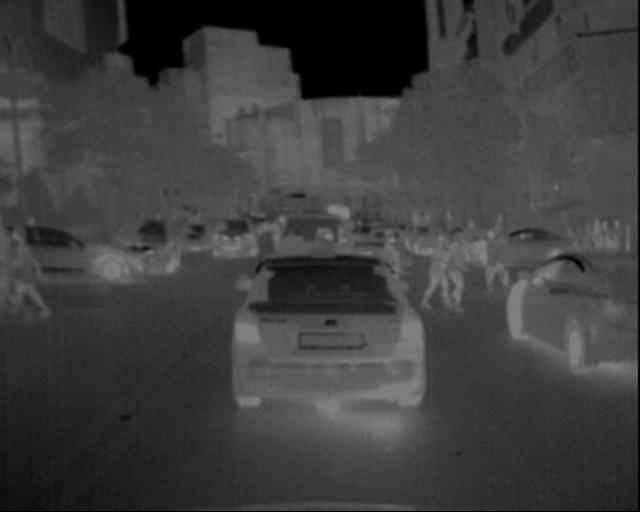person: (2, 224, 49, 330), (307, 216, 354, 316), (318, 219, 362, 319), (418, 226, 464, 315), (439, 221, 476, 320), (466, 214, 509, 296), (575, 205, 640, 255), (382, 222, 415, 314), (485, 219, 516, 300), (266, 214, 286, 255)
